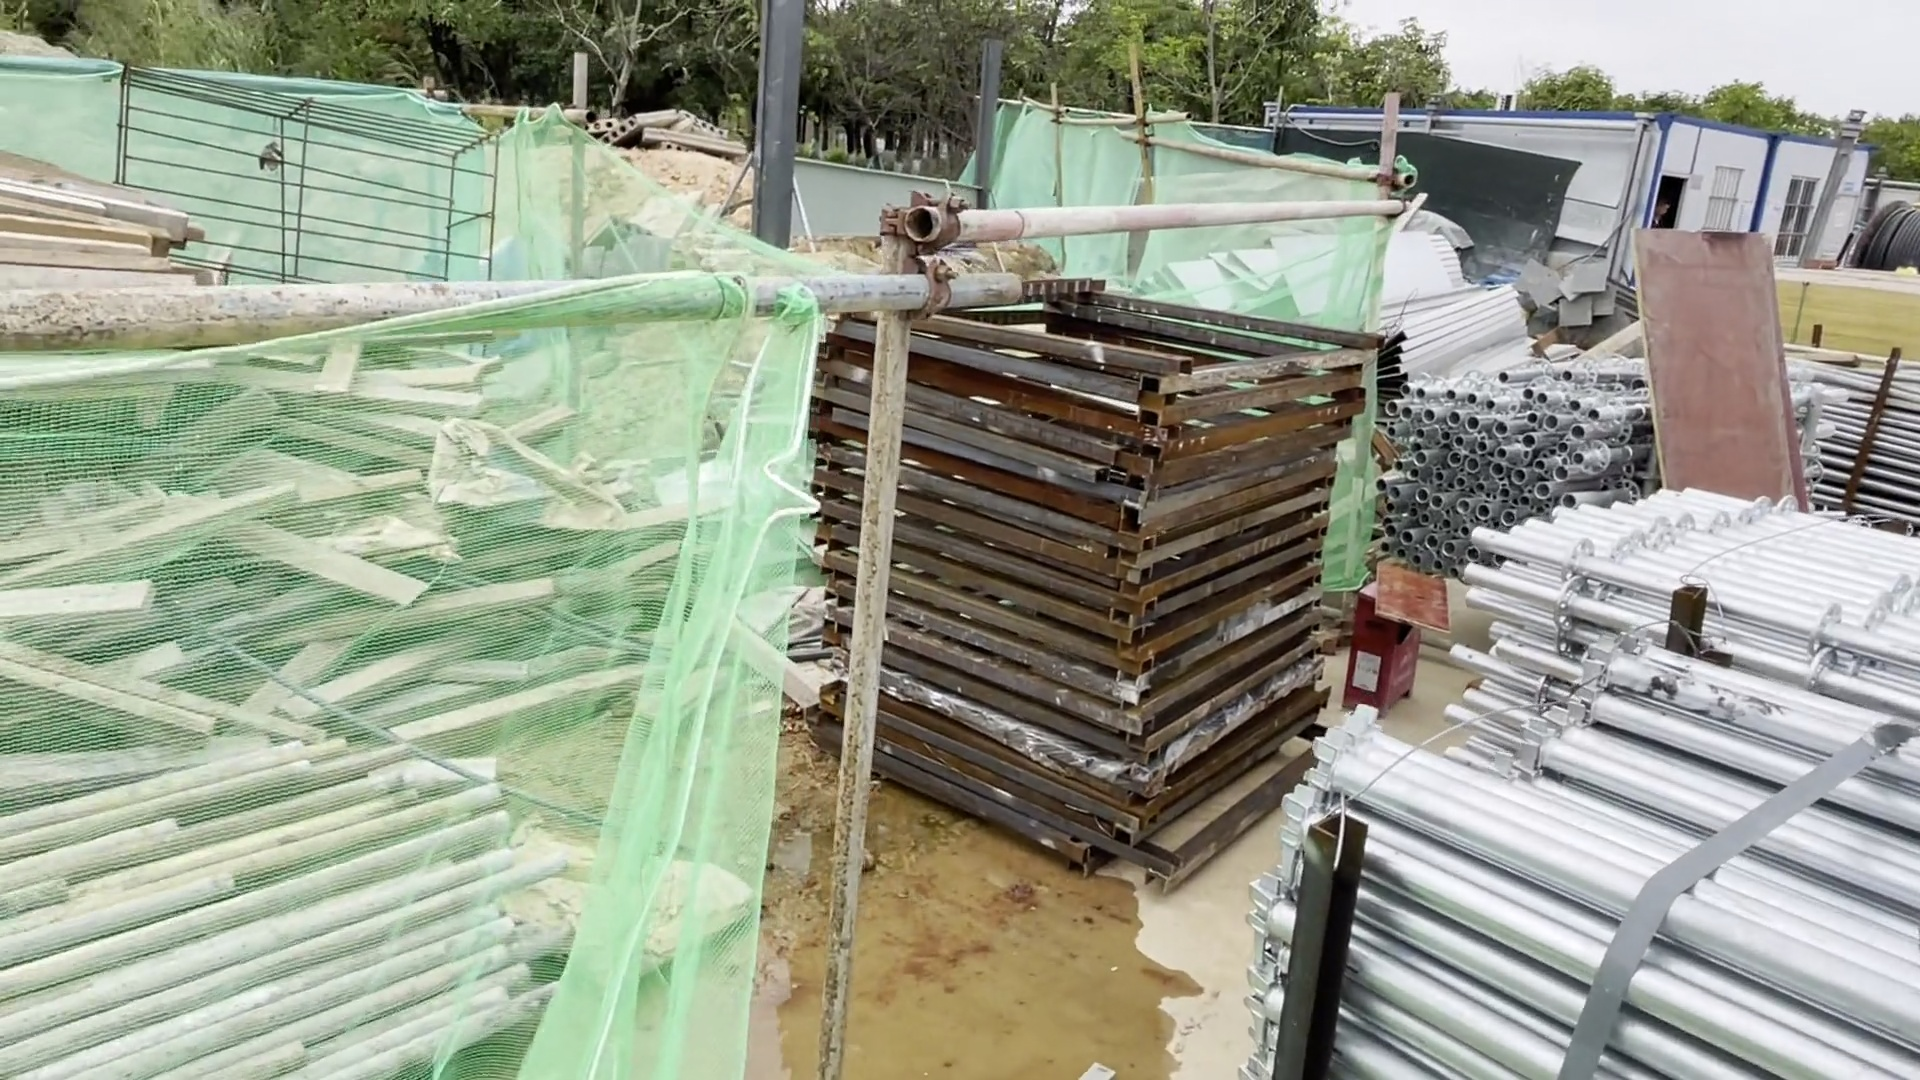scaffold: (1251, 705, 1919, 1080), (1482, 476, 1920, 709), (1393, 348, 1656, 550), (1813, 368, 1920, 505)
